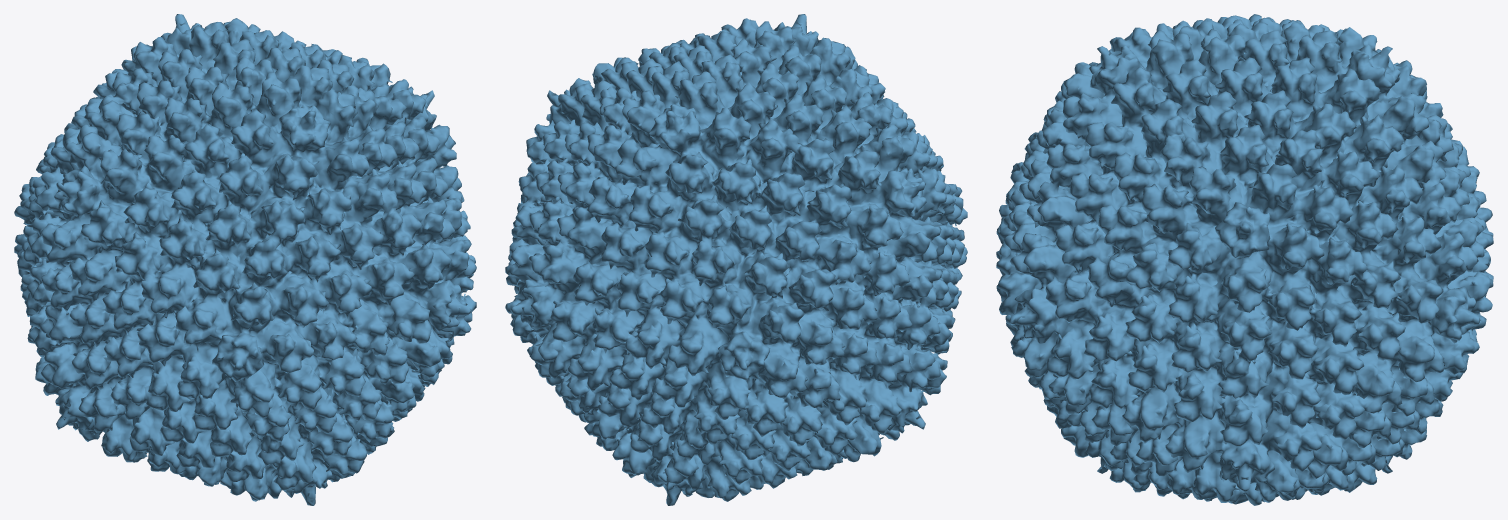
The model's file is Adenovirus.glb.
3 views of the same model, side by side, from view 1: azimuth 30°, elevation 25°; view 2: azimuth 150°, elevation 25°; view 3: azimuth 270°, elevation 25° (orthographic). The views are drawn at different scales.
Visible parts, largest first — view 1: surface; view 2: surface; view 3: surface.
Boxes of the visible parts, x1,y1,x2,y2 form: surface: [14, 14, 476, 505]; surface: [505, 14, 967, 505]; surface: [996, 14, 1493, 505].
Bounding box in the file's own units: 877 × 877 × 877.
